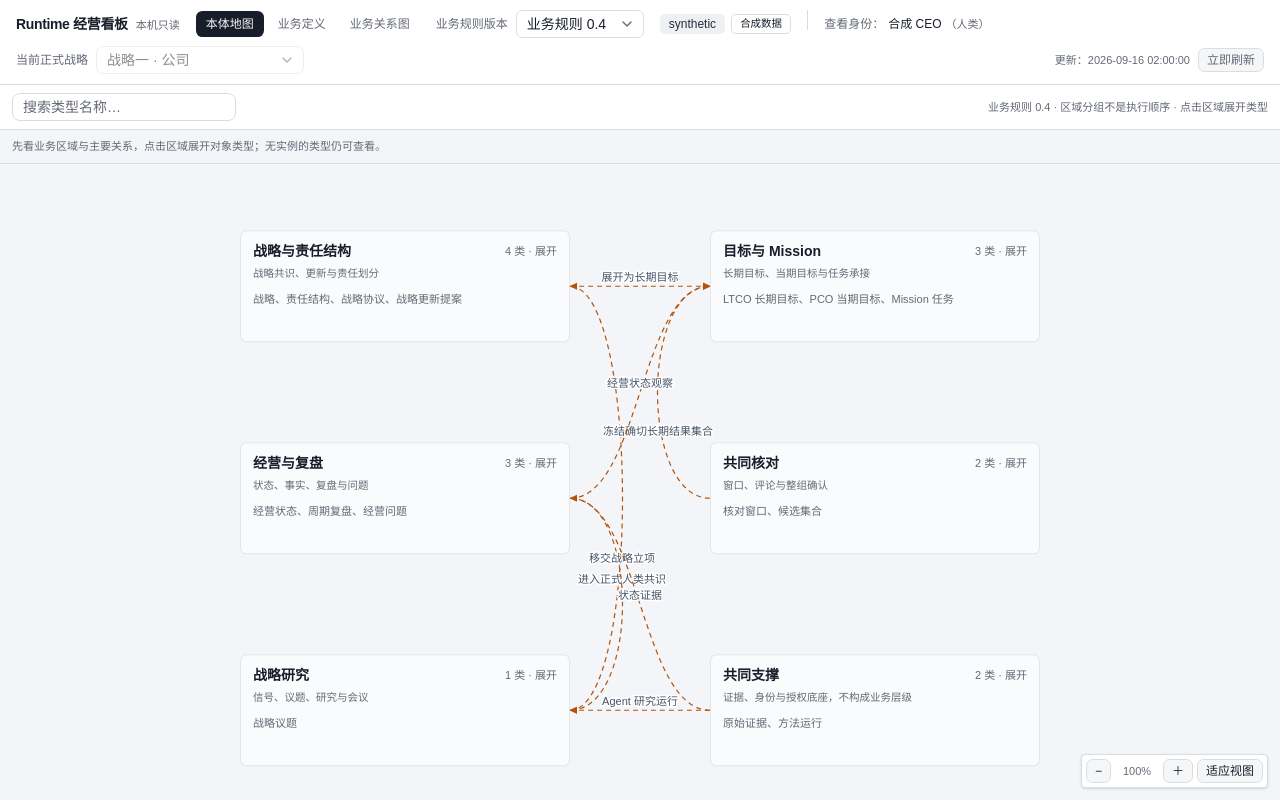
Test: is reachable as a separate top-level view from the protocol map
Click the button with test id "view-tab-definitions" at point(302, 24), box [268, 11, 336, 37]
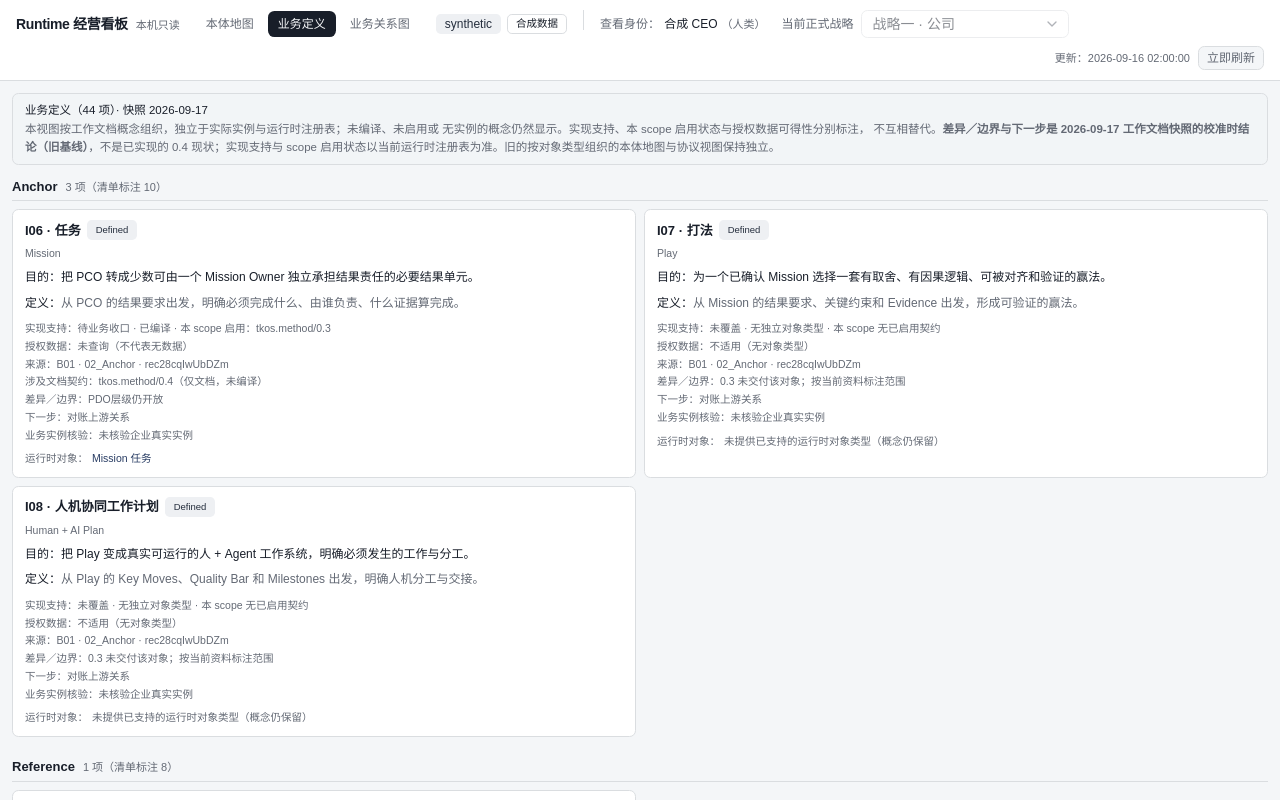
Expected: the element with test id "business-definitions" is shown
Expected: the element with test id "definition-I07" is shown, [644, 209, 1268, 478]
Click the button with test id "view-tab-map" at point(230, 24), box [196, 11, 264, 37]
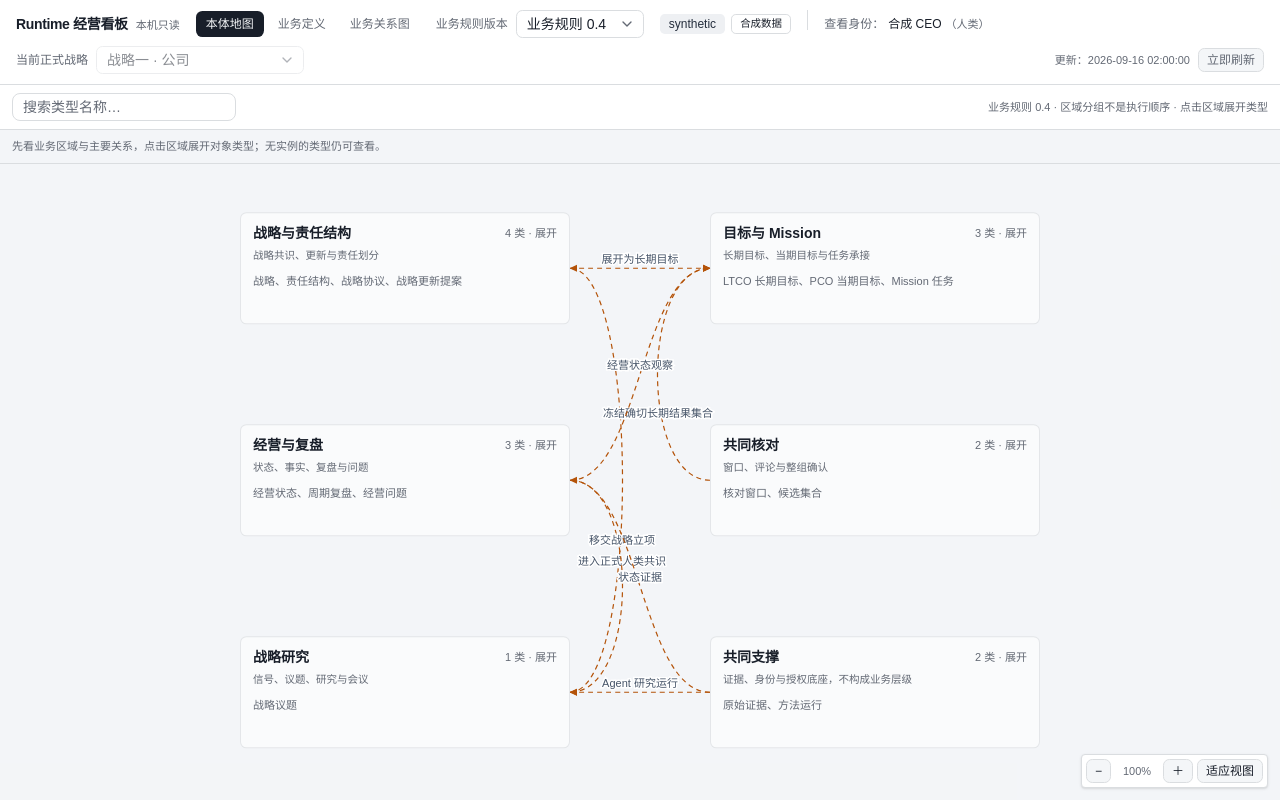
Expected: the element with test id "ontology-map" is shown
